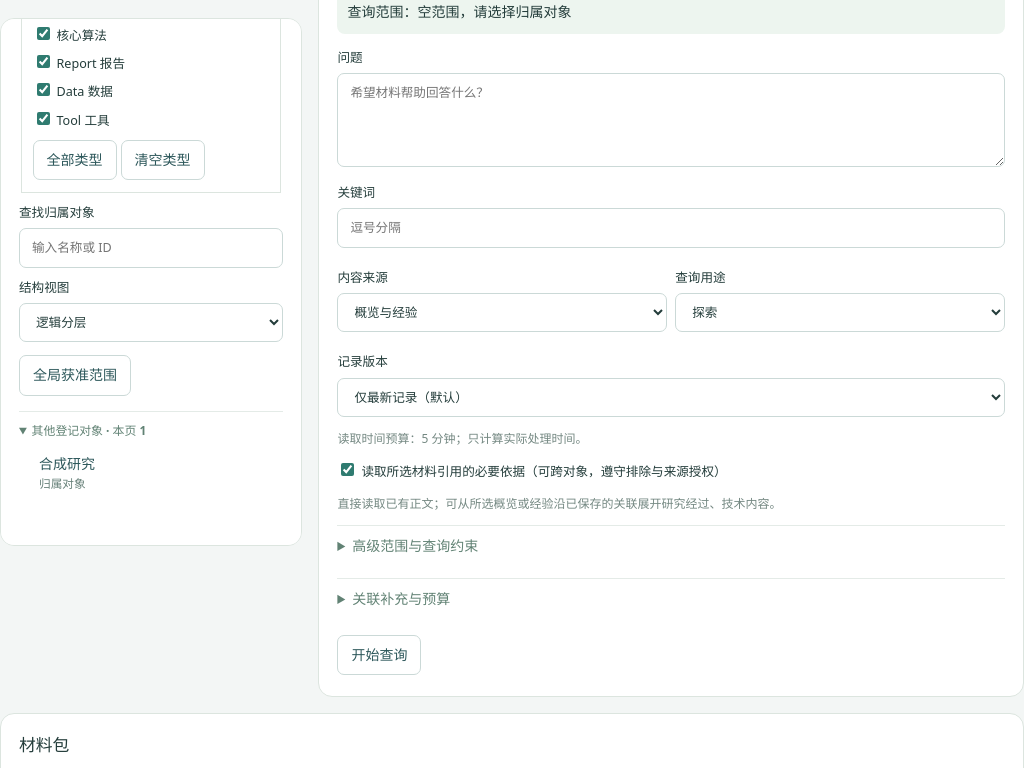
Test: 材料查询固定范围与回执 › 条件改变后迟到的轮询不能覆盖新查询
This screenshot has width=1024, height=768.
(page scrolled)
Click the button "合成研究 归属对象" at (156, 473), box [32,447,279,498]
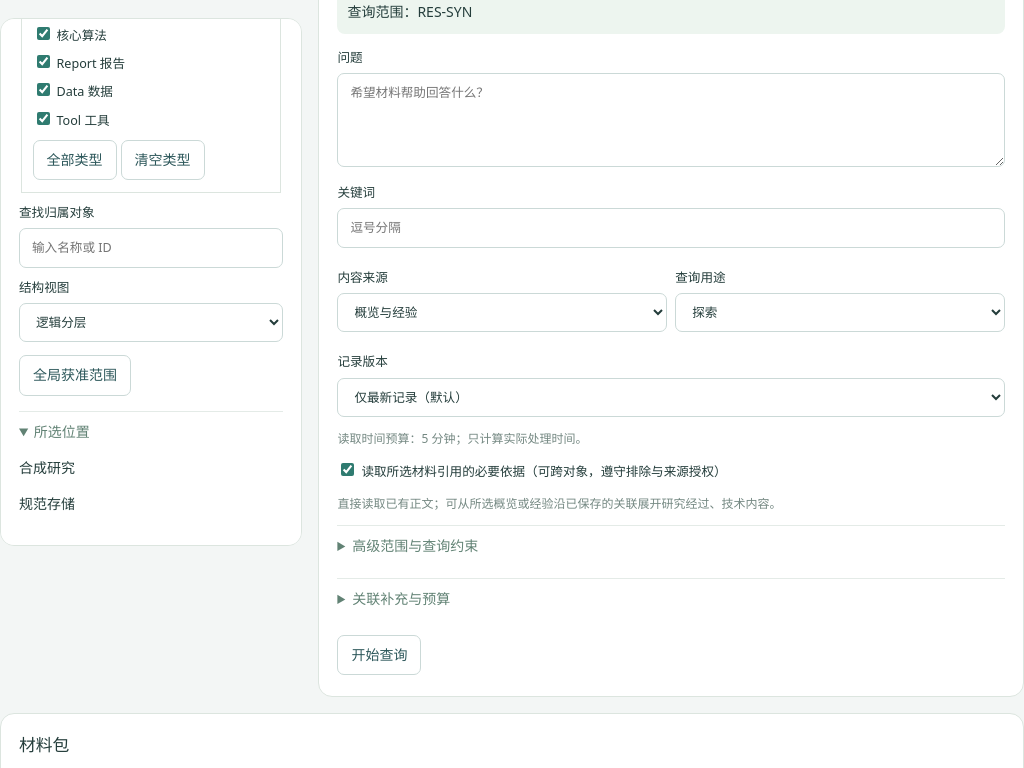
Click the button "开始查询" at (379, 655), box [337,635,421,675]
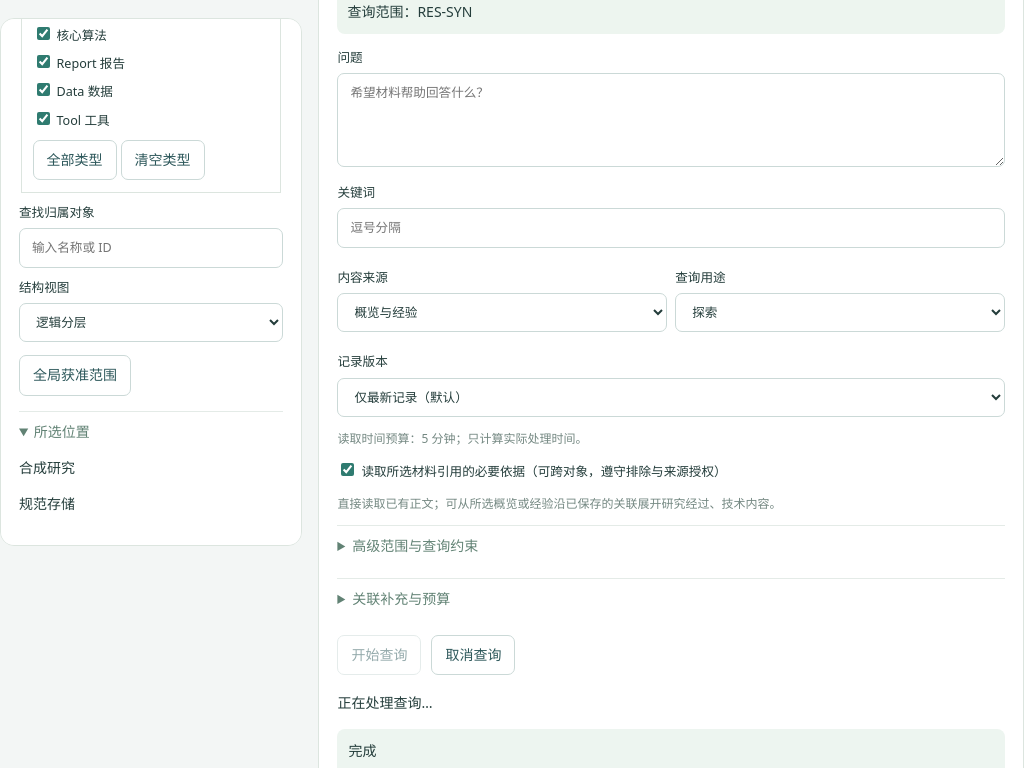
Type "新条件" into the text box labelled "问题" at (671, 120), box [337,73,1005,167]
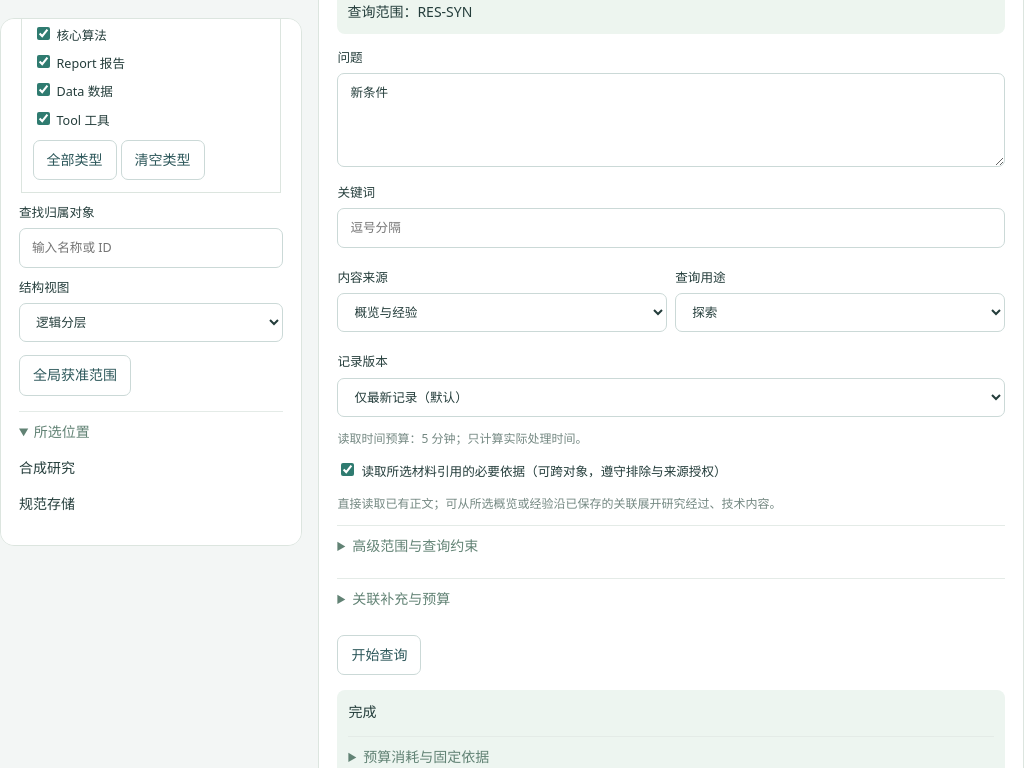
Click the button "开始查询" at (379, 655), box [337,635,421,675]
(page scrolled)
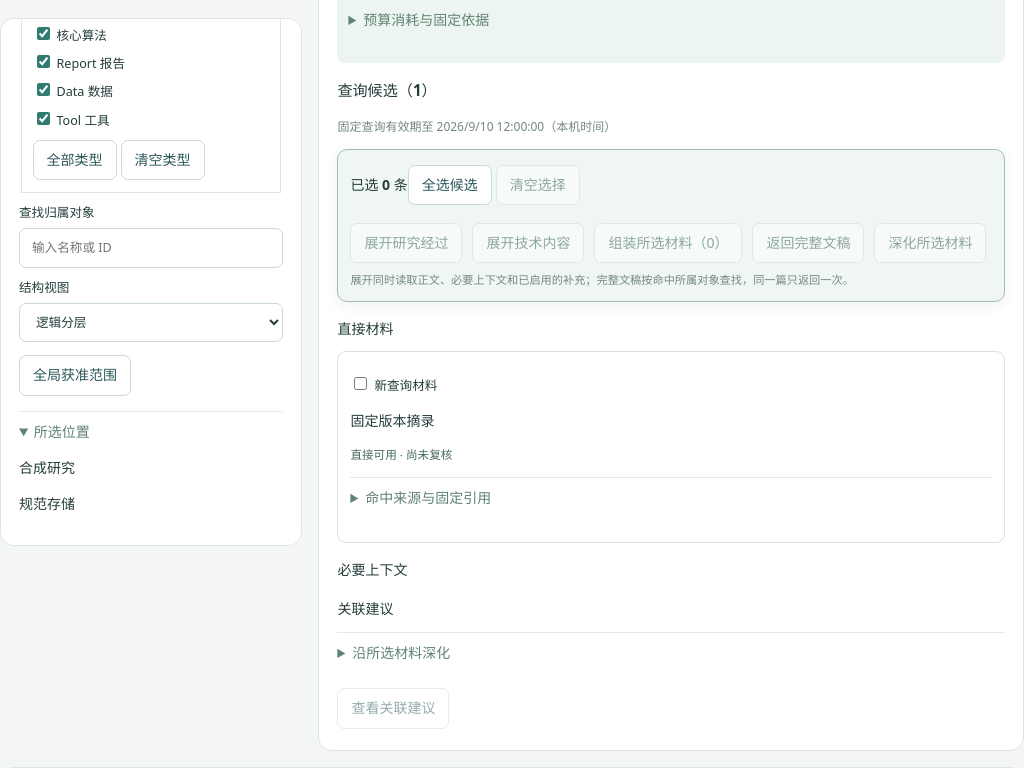
Now the text "新查询材料" is shown, box [354,377,437,394]
